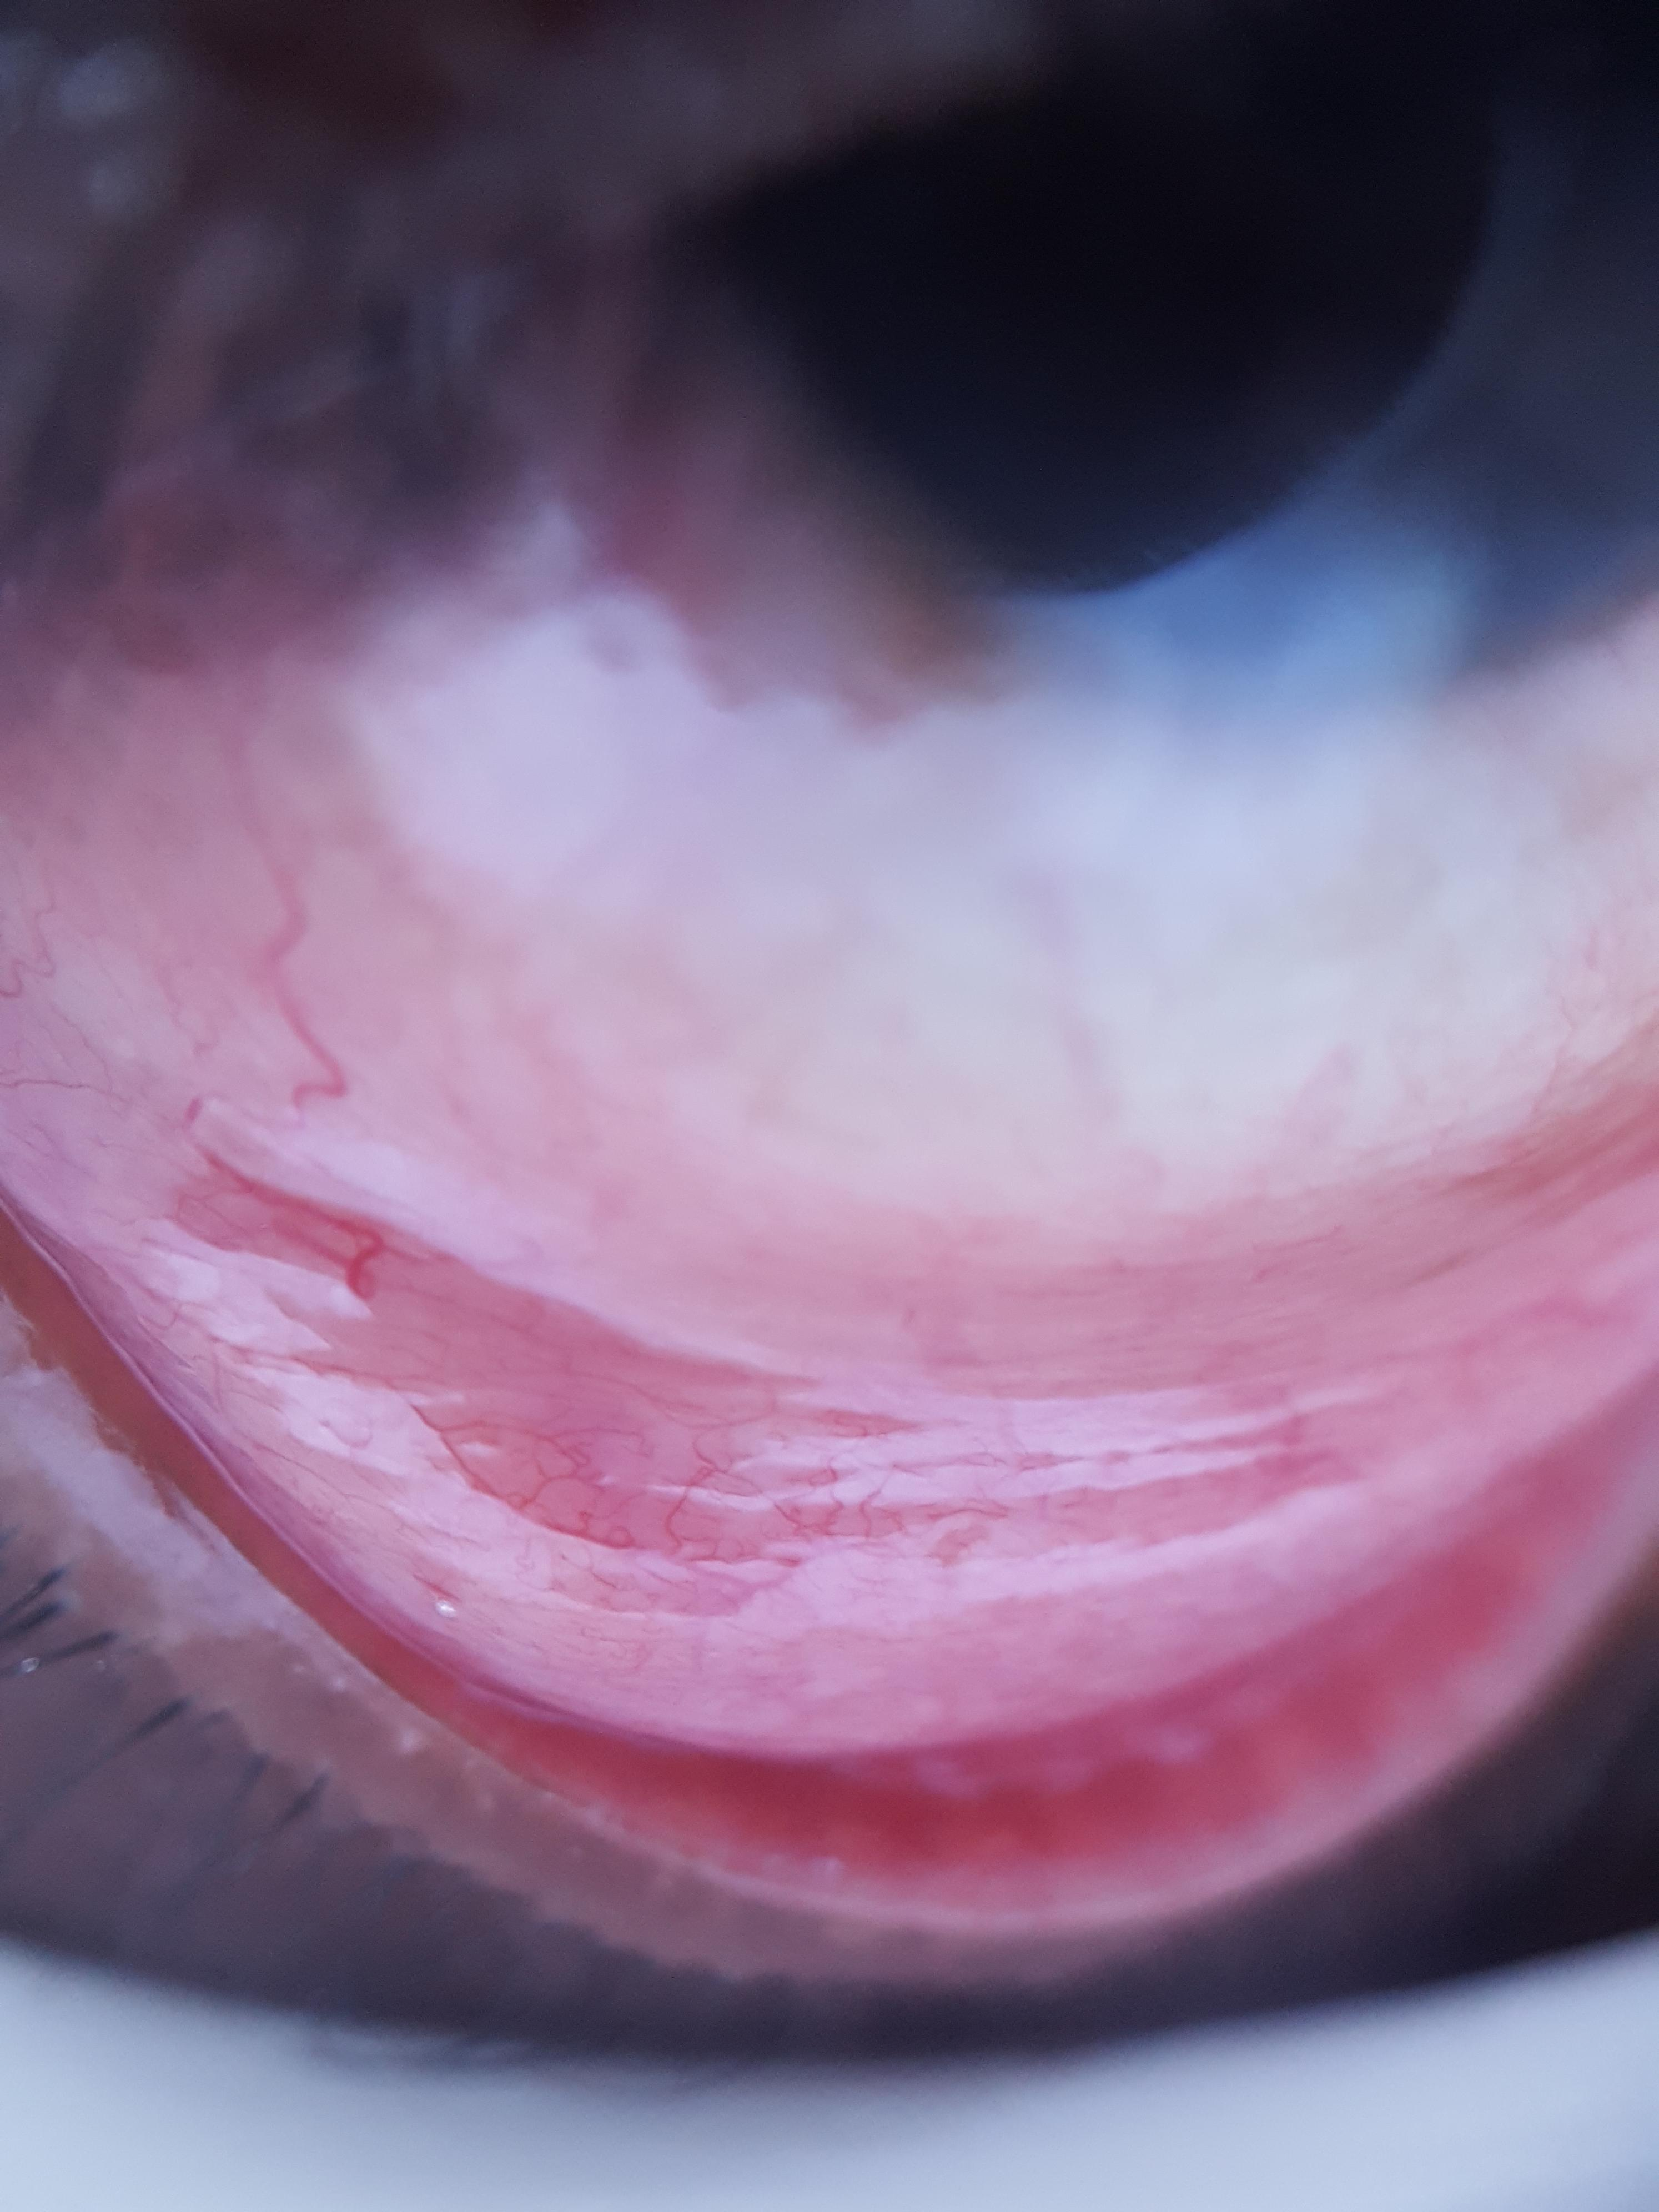forniceal: (0, 963, 1659, 1750)
forniceal_palpebral: (0, 956, 1659, 1911)
palpebral: (3, 1219, 1659, 1902)
